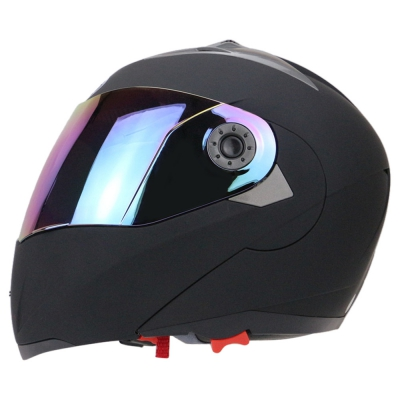with_helmet: (10, 38, 393, 370)
